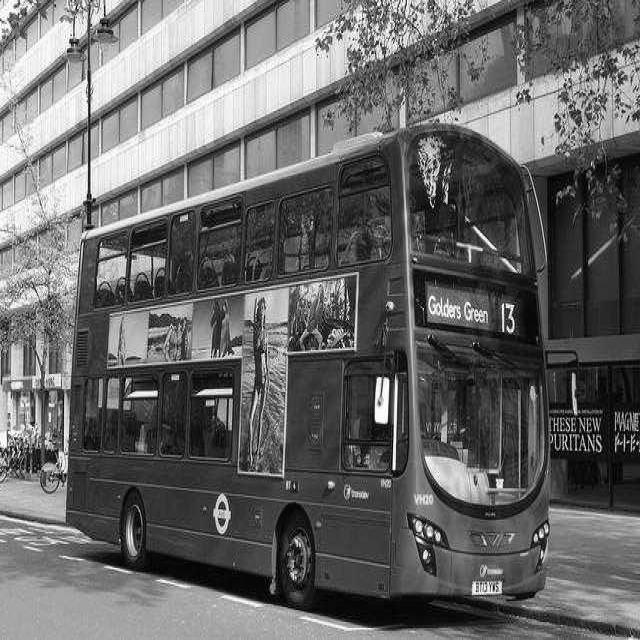Bus: (66, 122, 550, 606)
